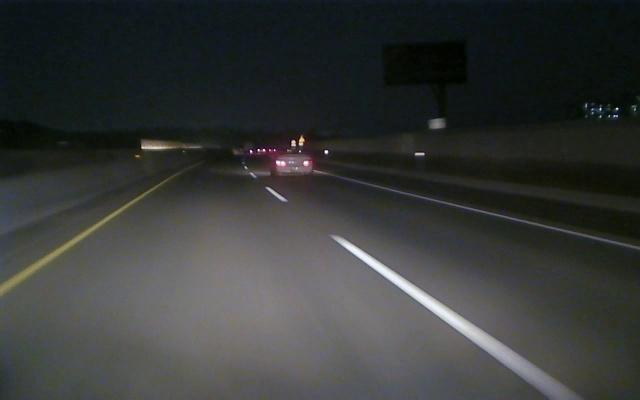lane: (267, 189, 583, 399), (370, 184, 640, 250), (2, 195, 143, 296)
